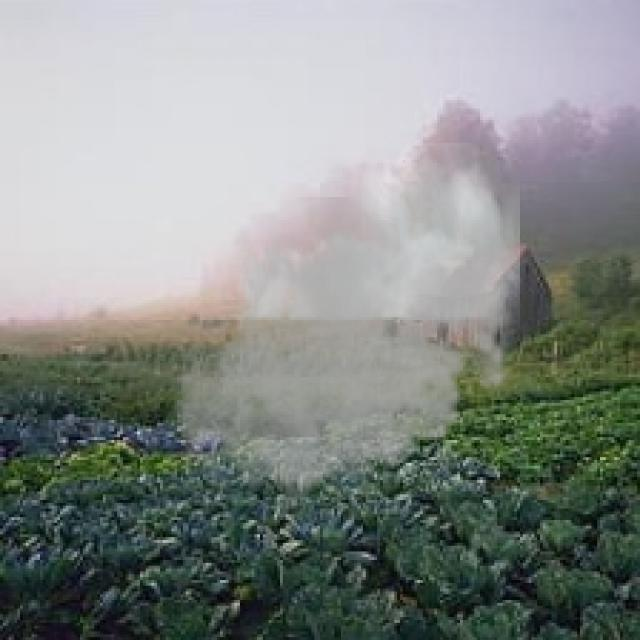smoke: (166, 143, 534, 514)
